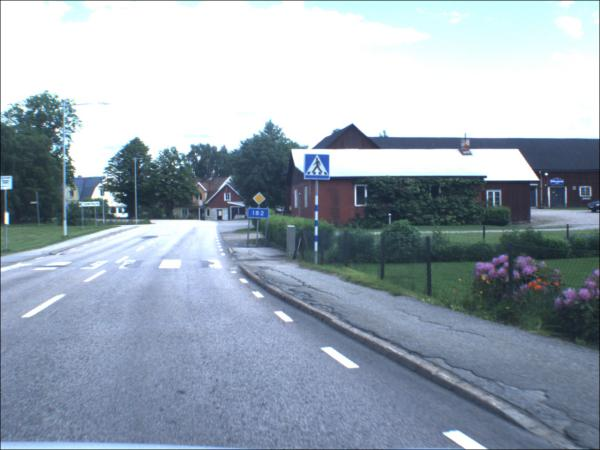PEDESTRIAN_CROSSING: (305, 155, 332, 182)
PRIORITY_ROAD: (253, 192, 268, 207)
